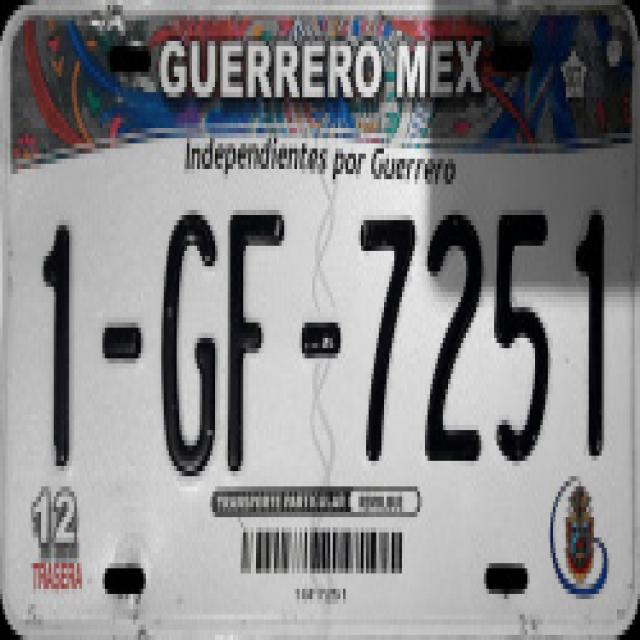placa: (17, 177, 632, 478)
